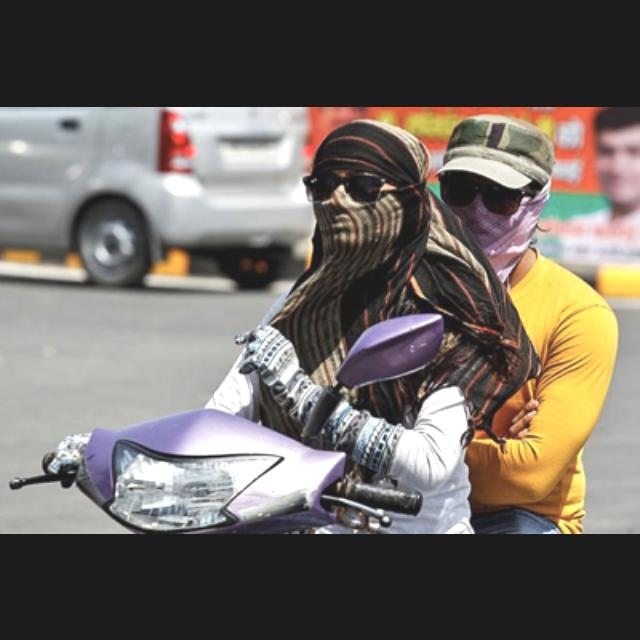Without Helmet: (302, 116, 433, 268)
